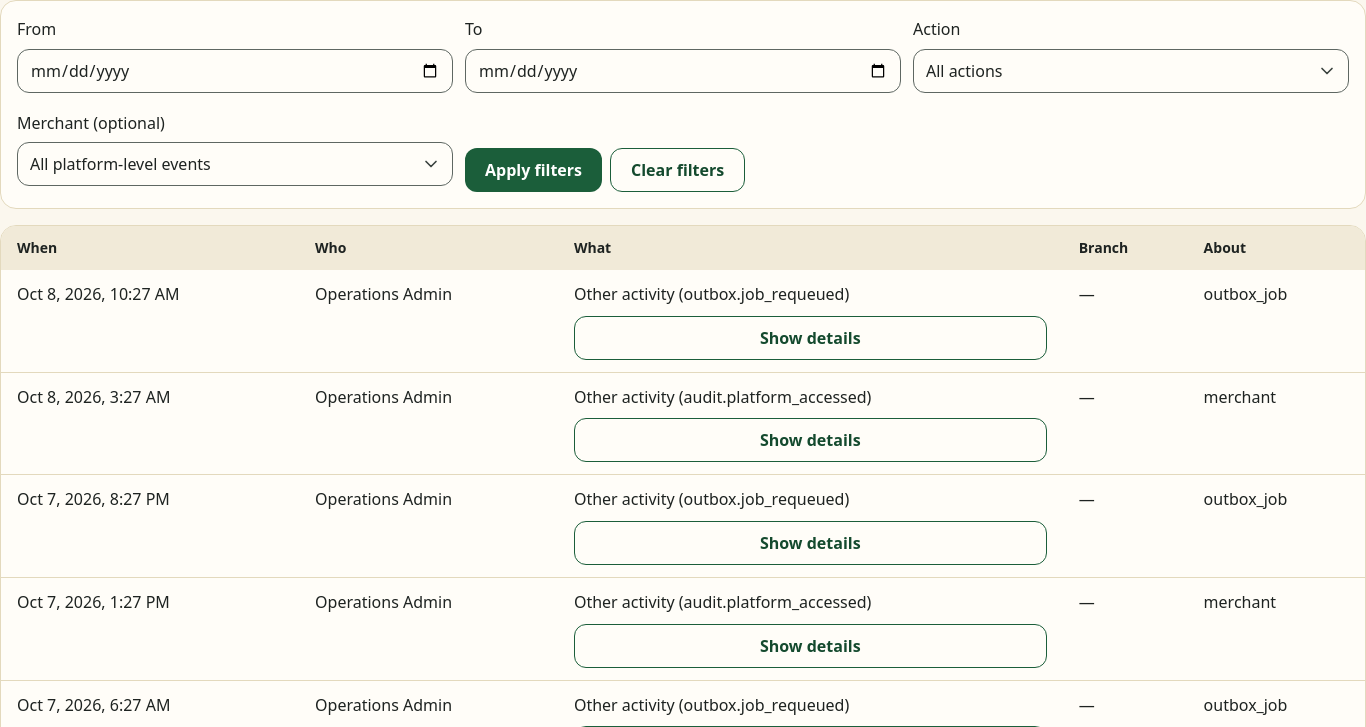
platform audit › filters by action and needs the recorded confirmation before showing a merchant
Select "outbox.job_requeued" in the dropdown labelled "Action" at [1131, 71], box x1=913 y1=49 x2=1349 y2=93
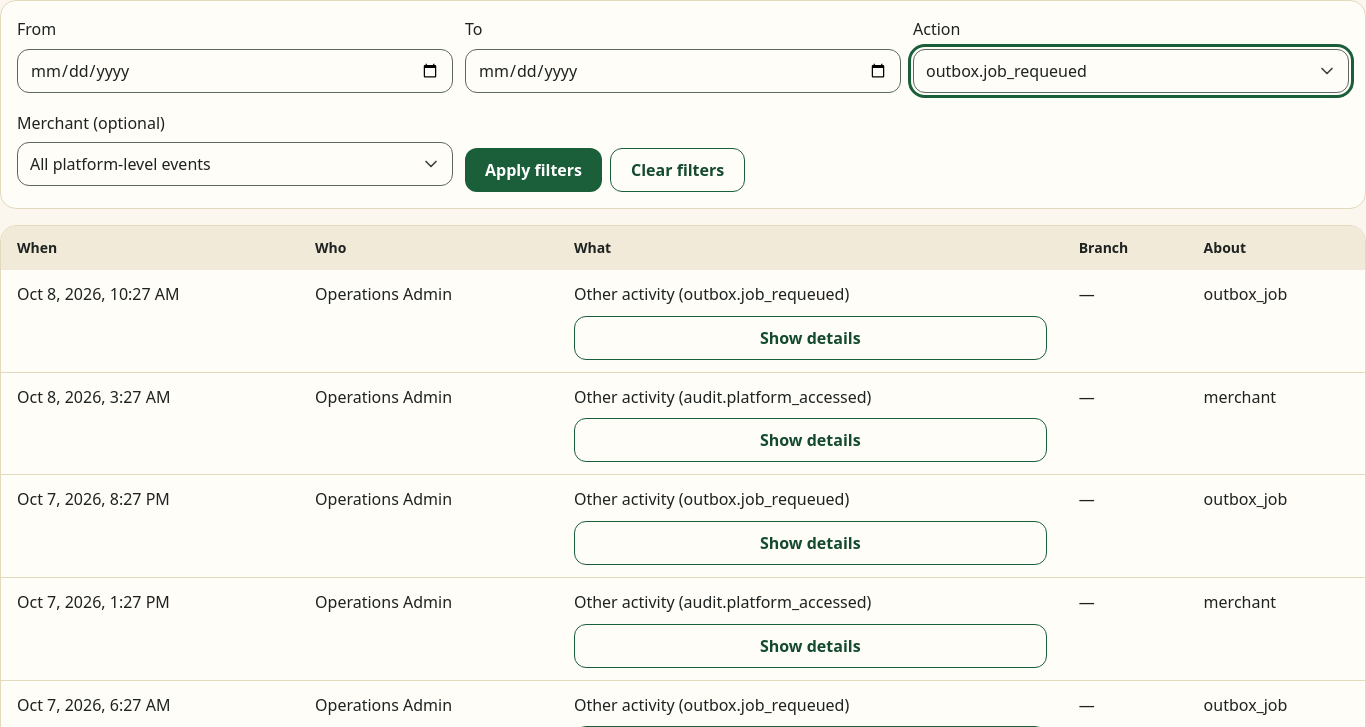
Click the button "Apply filters" at [534, 170], box x1=465 y1=148 x2=602 y2=192
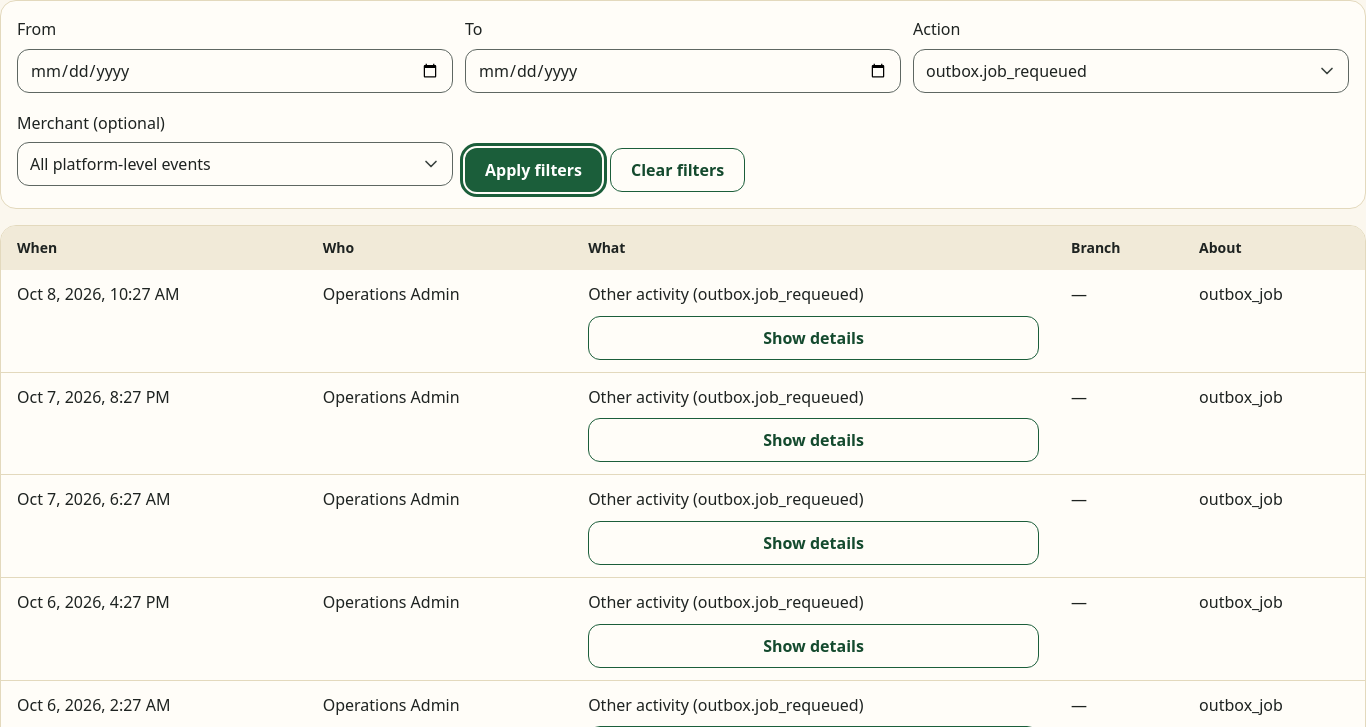
Select "Sample Cafe" in the dropdown labelled "Merchant (optional)" at [235, 164], box x1=17 y1=142 x2=453 y2=186
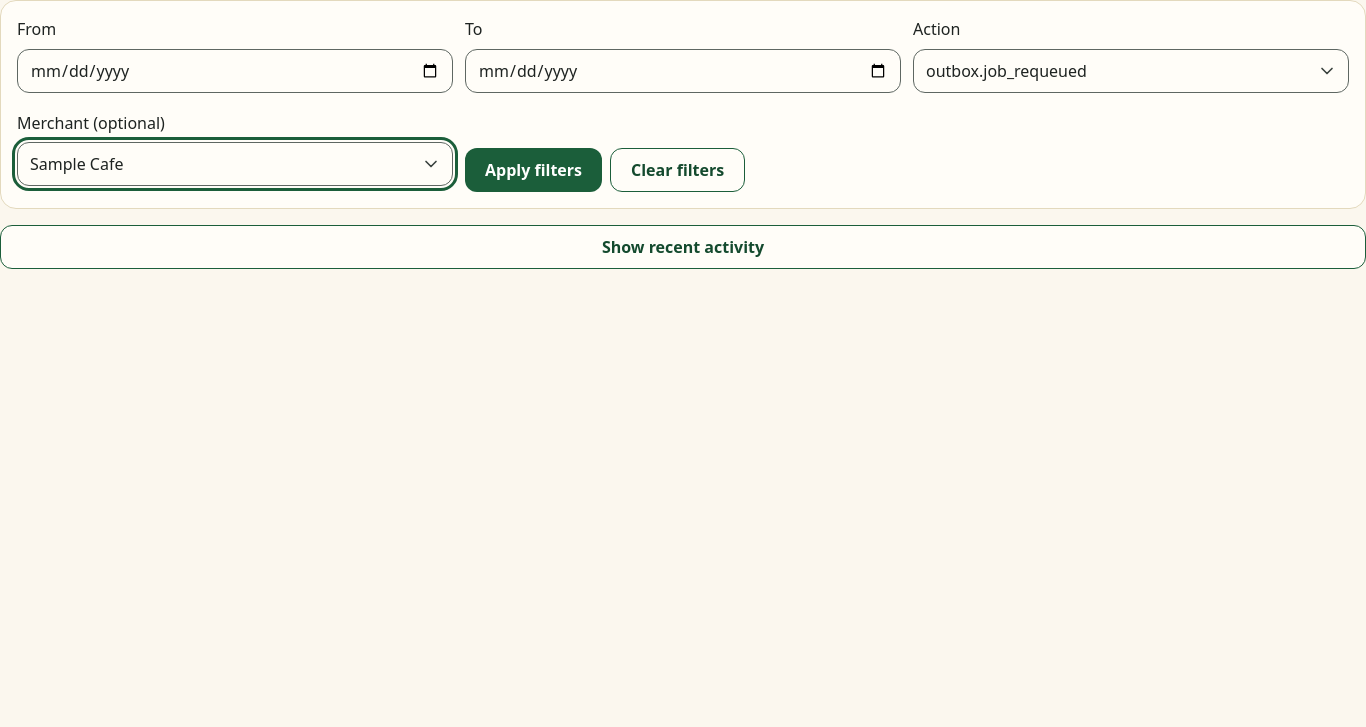
Expected: the table "Activity history" is not shown
Click the button "Show recent activity" at [683, 247], box x1=0 y1=225 x2=1365 y2=269
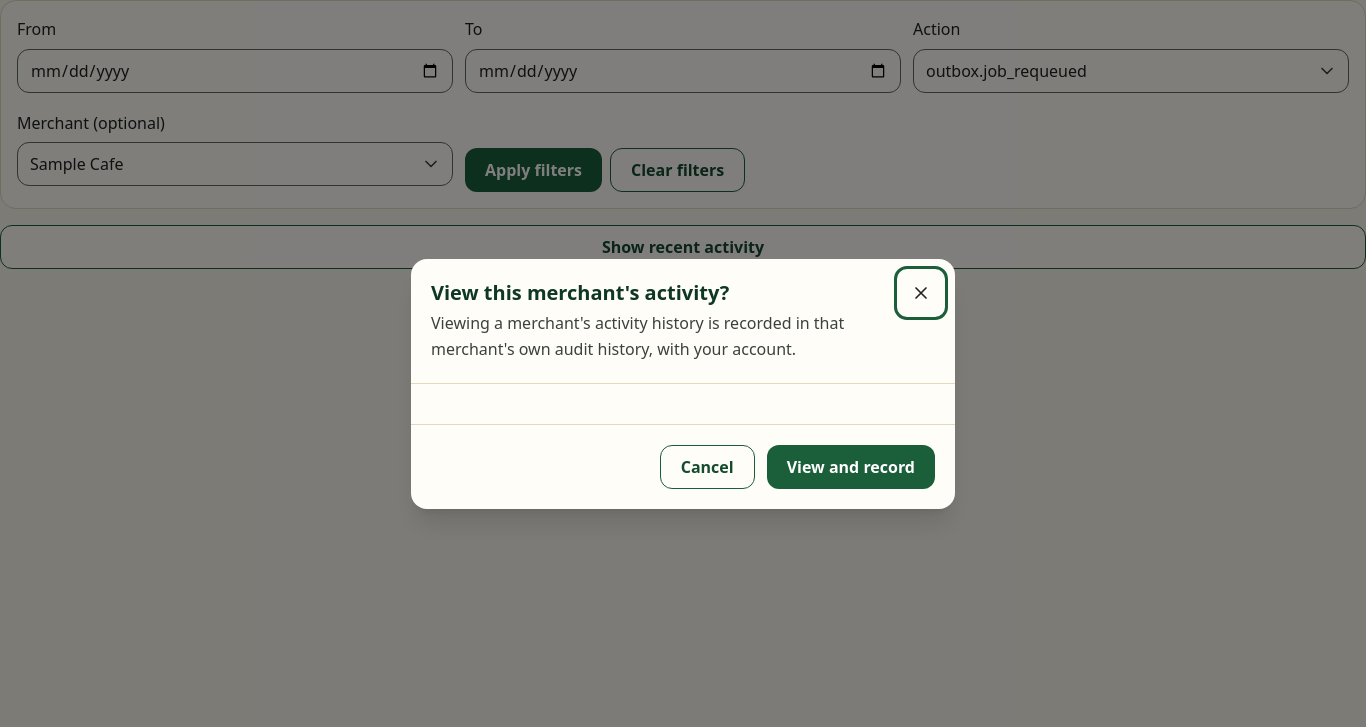
Expected: the dialog "View this merchant's activity?" is shown, x1=411 y1=259 x2=955 y2=509
